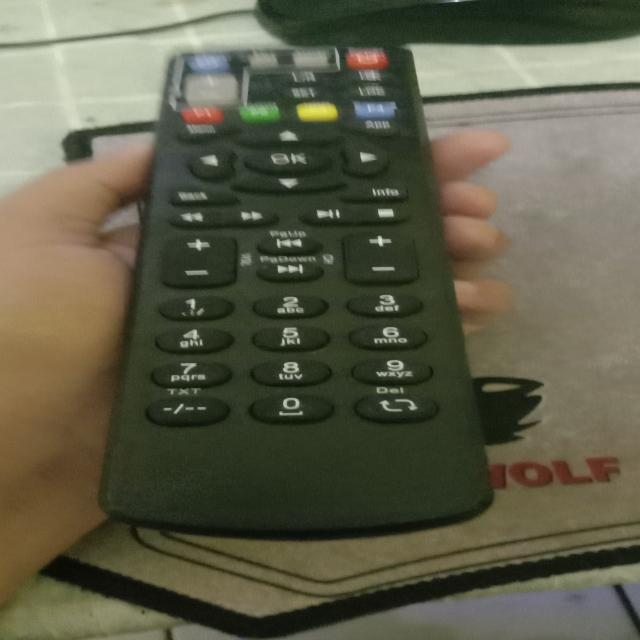remote: (98, 43, 508, 534)
